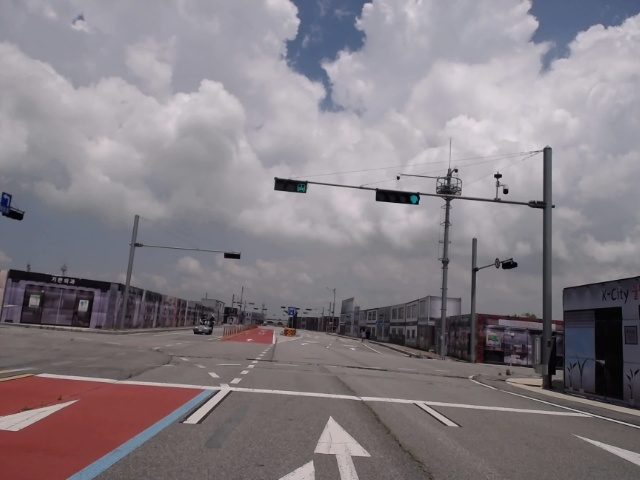straight_green_4: (378, 188, 423, 205)
